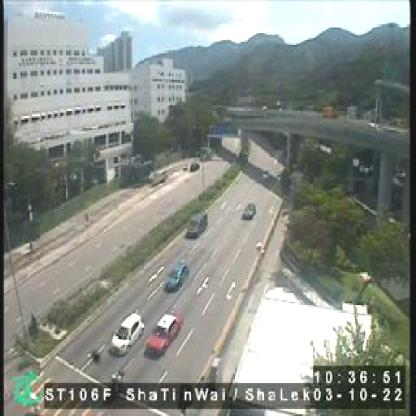Car: (146, 310, 180, 356), (109, 312, 143, 354), (161, 262, 187, 293), (186, 210, 207, 237), (242, 203, 255, 218)
